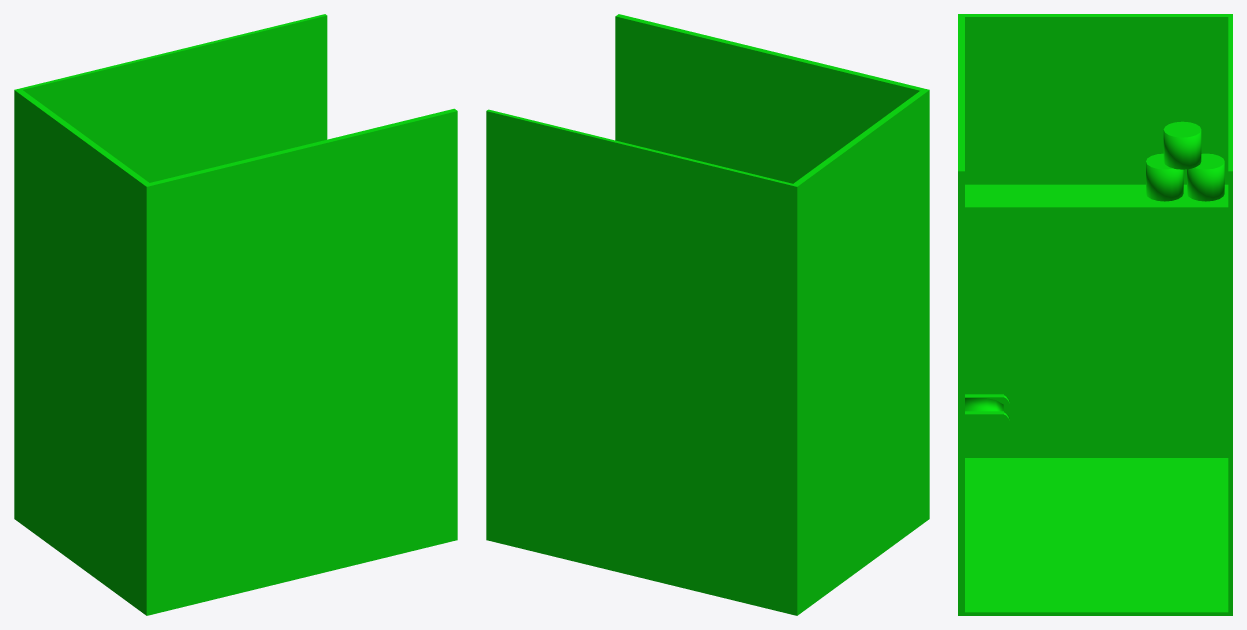
File: bathroom_edited.fbx
The picture shows the model from 3 angles, left to right: view 1: azimuth 30°, elevation 25°; view 2: azimuth 150°, elevation 25°; view 3: azimuth 270°, elevation 25°; orthographic projection. The views are drawn at different scales.
Visible parts, largest first — view 1: bathroom; view 2: bathroom; view 3: bathroom.
Part boxes in pixels (x1=…): bathroom: x1=14, y1=14, x2=457, y2=615; bathroom: x1=486, y1=14, x2=929, y2=615; bathroom: x1=958, y1=14, x2=1232, y2=615.
Bounding box in the file's own units: 562 × 741 × 415.
